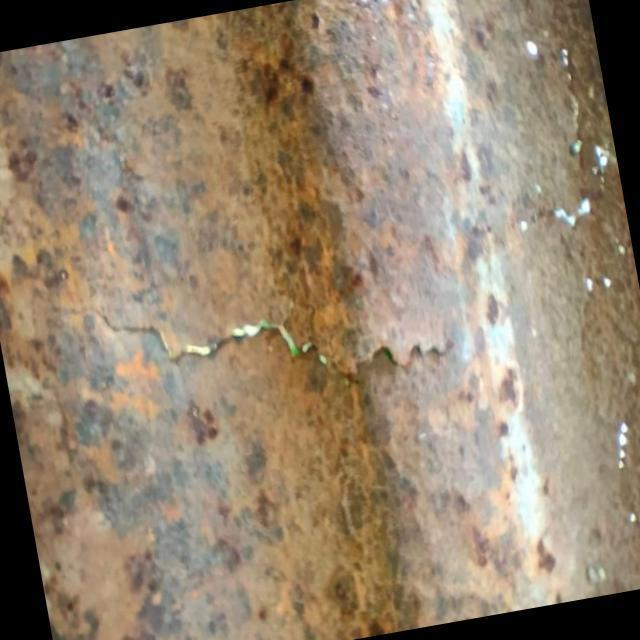defect: (31, 287, 462, 384)
